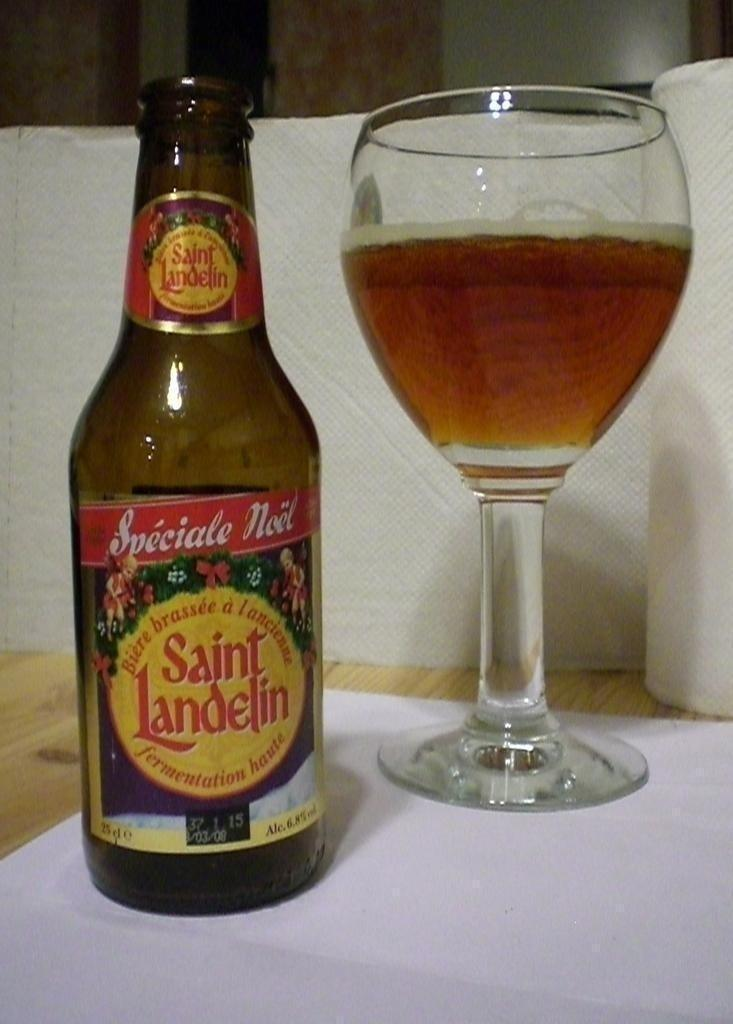bottle-glass: (66, 66, 331, 921)
glass-wine: (337, 86, 697, 806)
